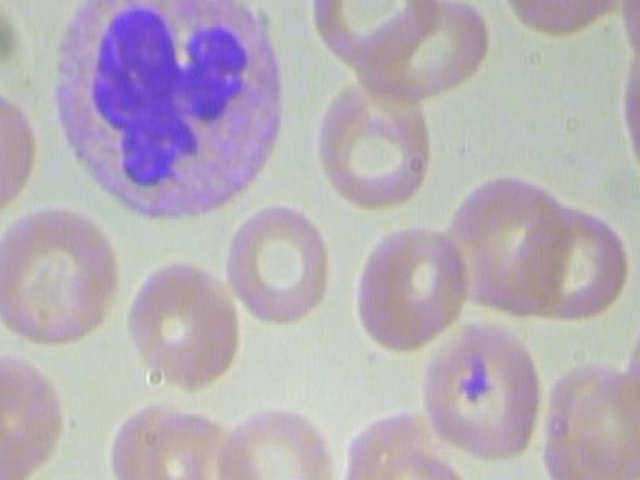RBC: (300, 63, 447, 215), (0, 202, 130, 354), (343, 206, 470, 351), (432, 166, 559, 311), (415, 319, 542, 464), (225, 199, 333, 329), (128, 257, 236, 387), (540, 354, 640, 480), (215, 391, 342, 480), (311, 0, 438, 79), (0, 345, 71, 480), (352, 434, 478, 480), (0, 83, 39, 214)
WBC: (39, 0, 301, 226)
